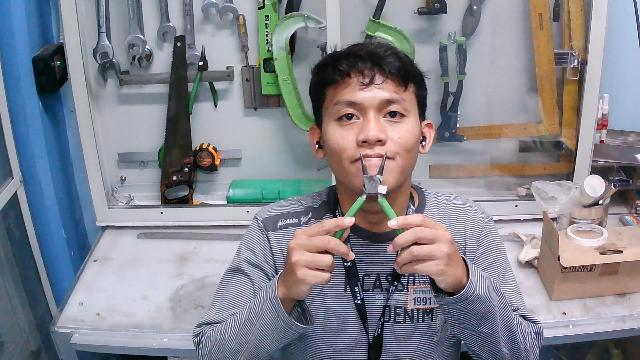tang_cucut_lancip_1: (329, 150, 413, 267)
